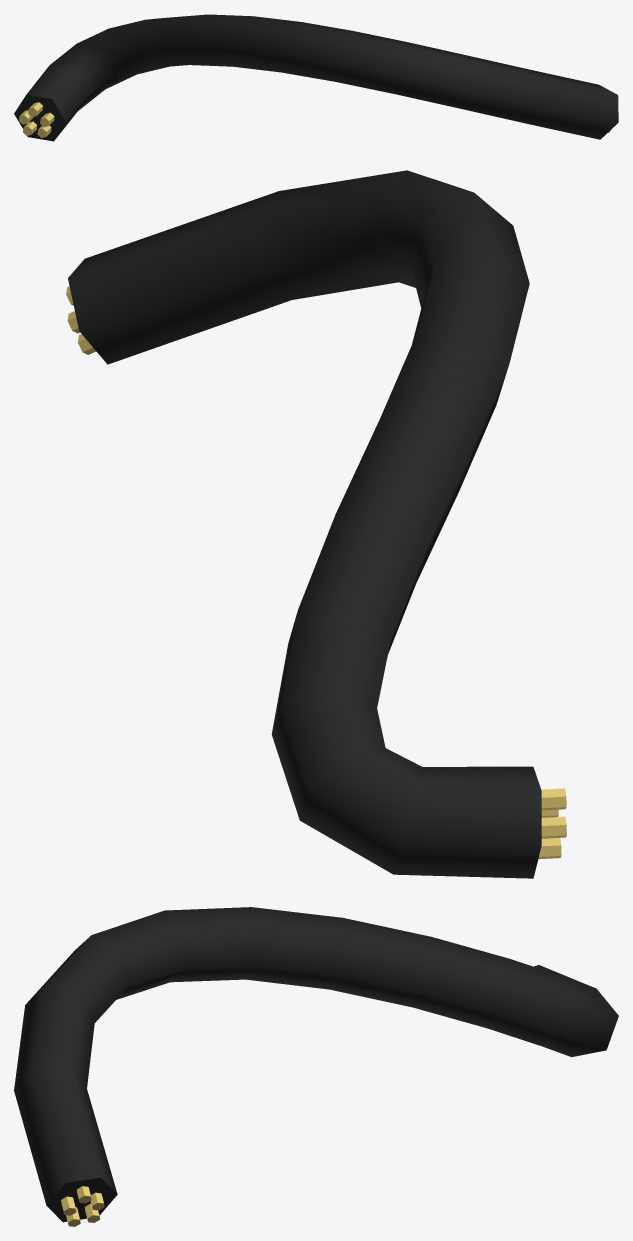
Rendered from scarpCable.glb.
3 views of the same model, one above another, from view 1: azimuth 30°, elevation 25°; view 2: azimuth 150°, elevation 25°; view 3: azimuth 270°, elevation 25° (orthographic). The views are drawn at different scales.
Visible parts, largest first — view 1: BézierCurve; view 2: BézierCurve; view 3: BézierCurve.
Boxes of the visible parts, bbox=[...] form: BézierCurve: bbox=[14, 14, 618, 141]; BézierCurve: bbox=[66, 170, 566, 878]; BézierCurve: bbox=[14, 907, 618, 1226].
Size of the model in its own units: 1.04 by 0.3967 by 0.9918.
2 materials, 2 textured.
